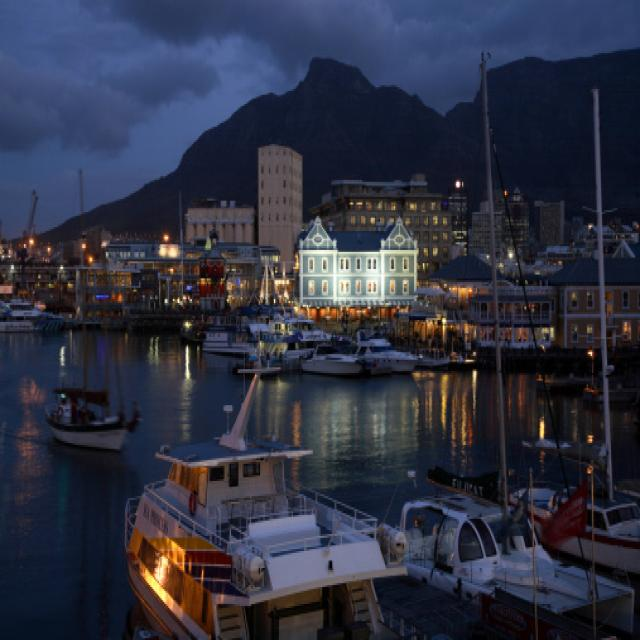Boat: (106, 436, 426, 640), (485, 460, 639, 640), (372, 482, 517, 637), (527, 338, 640, 446), (46, 368, 148, 479), (99, 273, 210, 348), (308, 306, 391, 396), (390, 322, 492, 394), (248, 296, 319, 389), (0, 265, 53, 352)
